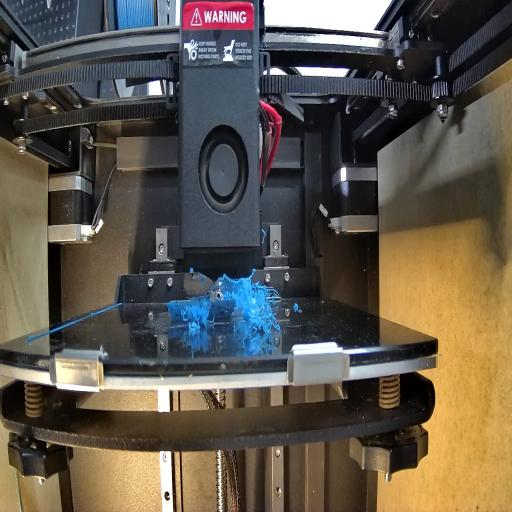spaghetti: (222, 276, 280, 329), (177, 296, 216, 336)
